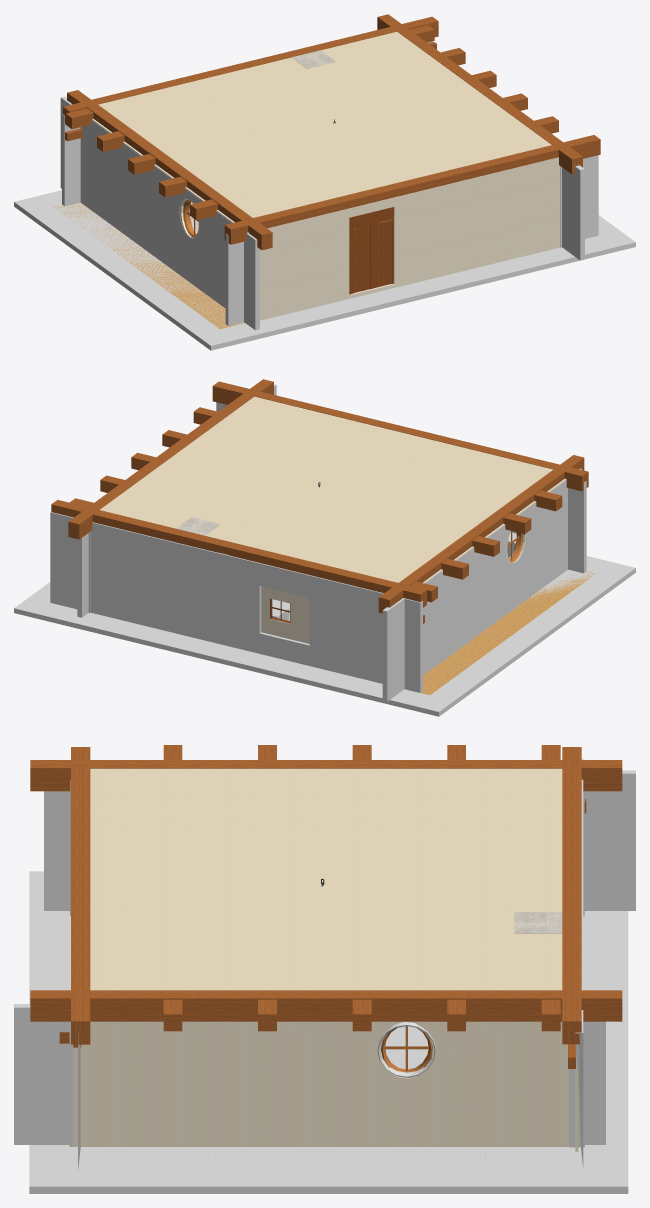
File: house.glb
3 renders of one model, top to bottom at view 1: azimuth 30°, elevation 25°; view 2: azimuth 150°, elevation 25°; view 3: azimuth 270°, elevation 25°, orthographic. The views are drawn at different scales.
Visible parts, largest first — view 1: HOUSE_ROOF, HOUSE_WALL_FRONT, COL_BOX_HOUSE_FLOOR, COL_BOX_HOUSE_WALL_LEFT, Flat_Beams_Front, TOP_BEAMS, INTERACT_EXIT_DOOR_01, Flat_Beams_Left, HOUSE_FLOOR, Flat_Beams_Back, COL_BOX_HOUSE_WALL_FRONT, Flat_Beams_Right (+4 smaller); view 2: HOUSE_ROOF, COL_BOX_HOUSE_WALL_BACK, COL_BOX_HOUSE_FLOOR, COL_BOX_HOUSE_WALL_LEFT, Flat_Beams_Back, HOUSE_FLOOR, TOP_BEAMS, Flat_Beams_Left, Flat_Beams_Front, Flat_Beams_Right, HOUSE_WALL_BACK, COL_BOX_HOUSE_WALL_FRONT (+2 smaller); view 3: HOUSE_ROOF, HOUSE_WALL_RIGHT, COL_BOX_HOUSE_FLOOR, Flat_Beams_Right, COL_BOX_HOUSE_WALL_RIGHT, COL_BOX_HOUSE_WALL_LEFT, Flat_Beams_Left, Flat_Beams_Back, Flat_Beams_Front, TOP_BEAMS, COL_BOX_HOUSE_WALL_BACK, Cube.008 (+3 smaller).
Boxes of the visible parts, x1=… form: HOUSE_ROOF: x1=98, y1=32, x2=551, y2=217; HOUSE_WALL_FRONT: x1=260, y1=157, x2=559, y2=320; COL_BOX_HOUSE_FLOOR: x1=14, y1=190, x2=635, y2=350; COL_BOX_HOUSE_WALL_LEFT: x1=60, y1=96, x2=259, y2=330; Flat_Beams_Front: x1=224, y1=135, x2=600, y2=244; TOP_BEAMS: x1=65, y1=25, x2=558, y2=220; INTERACT_EXIT_DOOR_01: x1=349, y1=207, x2=394, y2=294; Flat_Beams_Left: x1=67, y1=90, x2=272, y2=250; HOUSE_FLOOR: x1=53, y1=202, x2=244, y2=329; Flat_Beams_Back: x1=63, y1=16, x2=438, y2=123; COL_BOX_HOUSE_WALL_FRONT: x1=225, y1=155, x2=598, y2=325; Flat_Beams_Right: x1=377, y1=14, x2=582, y2=174; HOUSE_ROOF: x1=100, y1=396, x2=552, y2=582; COL_BOX_HOUSE_WALL_BACK: x1=50, y1=512, x2=422, y2=692; COL_BOX_HOUSE_FLOOR: x1=14, y1=556, x2=635, y2=716; COL_BOX_HOUSE_WALL_LEFT: x1=382, y1=468, x2=581, y2=701; Flat_Beams_Back: x1=51, y1=500, x2=426, y2=607; HOUSE_FLOOR: x1=421, y1=571, x2=594, y2=694; TOP_BEAMS: x1=70, y1=407, x2=562, y2=602; Flat_Beams_Left: x1=378, y1=455, x2=584, y2=613; Flat_Beams_Front: x1=212, y1=381, x2=588, y2=491; Flat_Beams_Right: x1=68, y1=379, x2=273, y2=539; HOUSE_WALL_BACK: x1=261, y1=586, x2=309, y2=643; COL_BOX_HOUSE_WALL_FRONT: x1=216, y1=402, x2=586, y2=573; HOUSE_ROOF: x1=90, y1=768, x2=562, y2=990; HOUSE_WALL_RIGHT: x1=73, y1=1021, x2=568, y2=1146; COL_BOX_HOUSE_FLOOR: x1=29, y1=871, x2=628, y2=1193; Flat_Beams_Right: x1=30, y1=990, x2=622, y2=1021; COL_BOX_HOUSE_WALL_RIGHT: x1=14, y1=1004, x2=605, y2=1144; COL_BOX_HOUSE_WALL_LEFT: x1=44, y1=770, x2=635, y2=910; Flat_Beams_Left: x1=30, y1=760, x2=622, y2=791; Flat_Beams_Back: x1=562, y1=747, x2=581, y2=1044; Flat_Beams_Front: x1=71, y1=747, x2=90, y2=1044; TOP_BEAMS: x1=163, y1=745, x2=560, y2=1031; COL_BOX_HOUSE_WALL_BACK: x1=575, y1=758, x2=583, y2=1167; Cube.008: x1=514, y1=912, x2=562, y2=933.
Bounding box in the file's own units: 23.32 × 6.13 × 19.43.
Materials: 78 (20 with a texture image).
